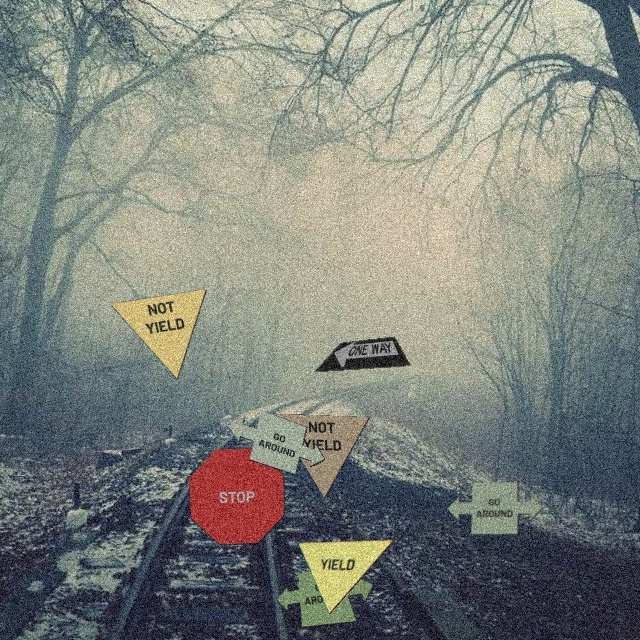GO_AROUND: (227, 409, 325, 475), (276, 565, 374, 628), (446, 481, 544, 535)
NOT_YIELD: (109, 288, 207, 380), (272, 413, 370, 499)
ONE_WAY_ left: (313, 336, 411, 372)
STOP: (188, 447, 285, 545)
YIELD: (297, 539, 395, 614)
